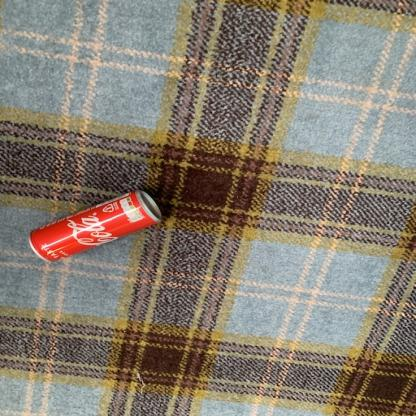trash: (31, 193, 167, 266)
